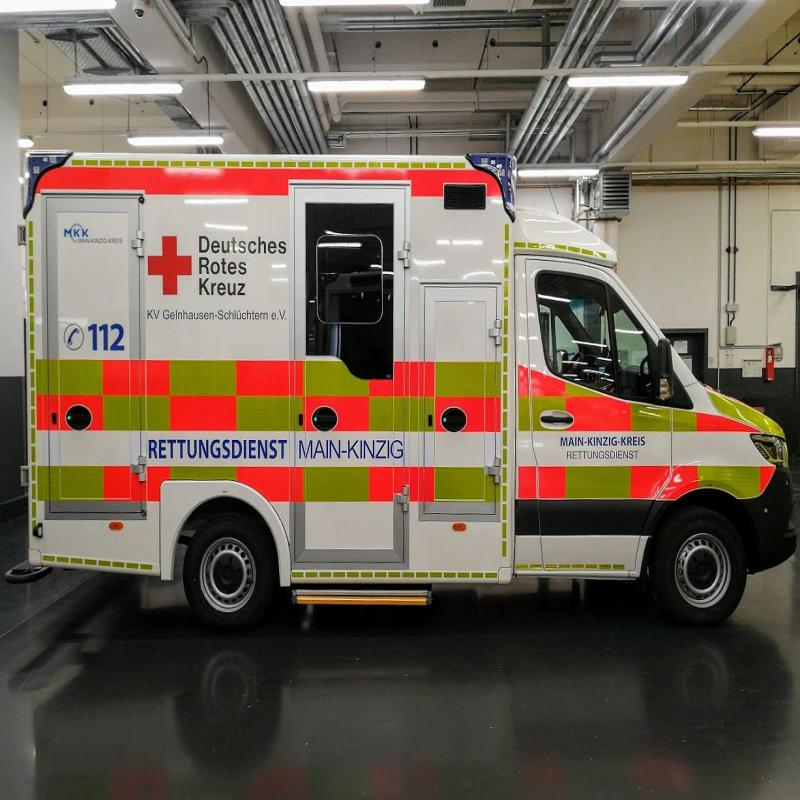ambulance: (10, 143, 784, 680)
